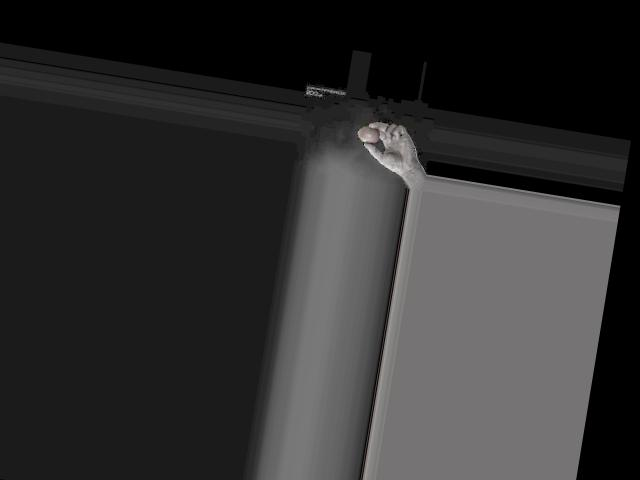egg: (357, 125, 382, 144)
